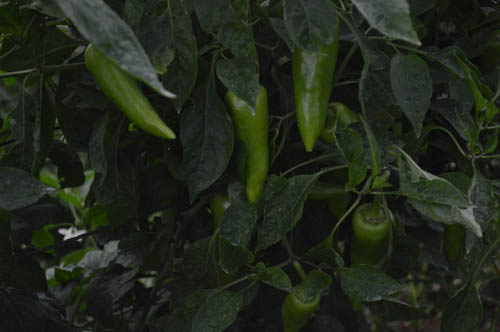ChiliPepper: (78, 43, 177, 145), (280, 32, 341, 153), (220, 85, 277, 205), (342, 201, 398, 277), (206, 191, 243, 289), (319, 101, 370, 152), (272, 284, 325, 332), (439, 206, 469, 264)
